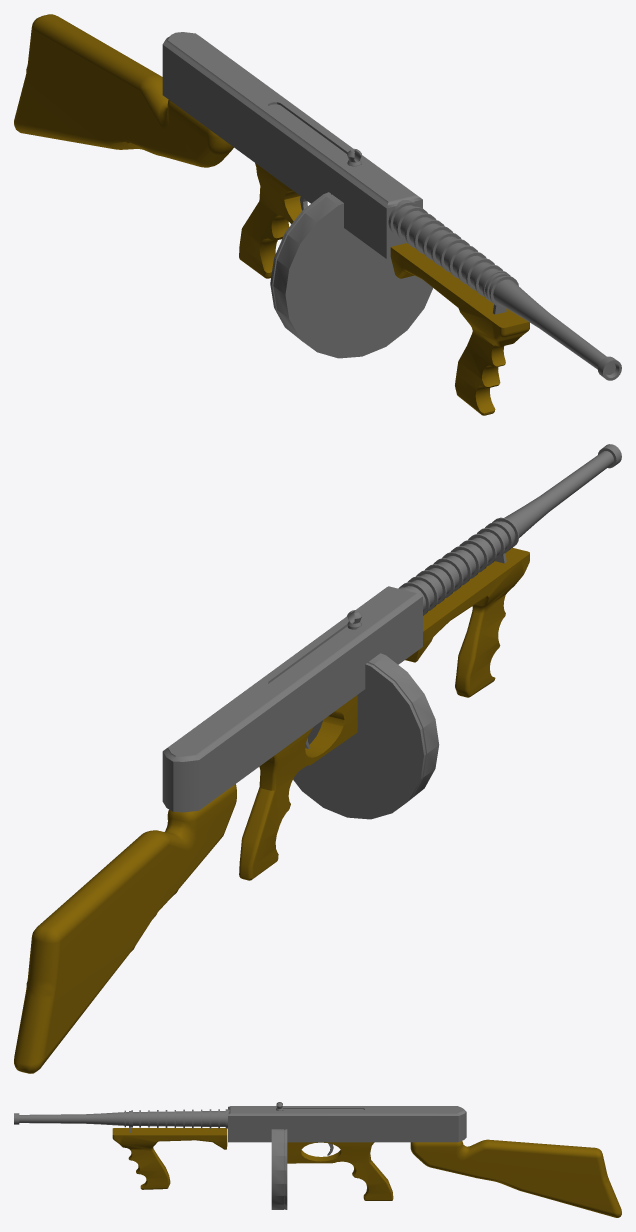
The model's file is TommyGun_Final.fbx.
3 views of the same model, one above another, from view 1: azimuth 30°, elevation 25°; view 2: azimuth 150°, elevation 25°; view 3: azimuth 270°, elevation 25° (orthographic). The views are drawn at different scales.
Parts seen in each view (by area): view 1: Receiver1, Buttstock, Magazine, Barrel, Handgaurd2, triggerassemblyandgrip1, ChargerHandle; view 2: Buttstock, Receiver1, Magazine, Barrel, Handgaurd2, triggerassemblyandgrip1, ChargerHandle; view 3: Buttstock, Receiver1, Handgaurd2, Barrel, triggerassemblyandgrip1, Magazine, ChargerHandle.
Part boxes in pixels (x1,y1,x2,y2): Receiver1: [162, 32, 422, 258]; Buttstock: [14, 14, 233, 167]; Magazine: [270, 192, 432, 358]; Barrel: [388, 200, 621, 380]; Handgaurd2: [390, 243, 529, 415]; triggerassemblyandgrip1: [239, 163, 301, 278]; ChargerHandle: [268, 104, 361, 166]; Buttstock: [14, 784, 236, 1073]; Receiver1: [162, 586, 422, 812]; Magazine: [293, 653, 439, 819]; Barrel: [398, 444, 621, 615]; Handgaurd2: [405, 548, 529, 697]; triggerassemblyandgrip1: [239, 695, 357, 880]; ChargerHandle: [269, 610, 361, 685]; Buttstock: [410, 1139, 621, 1217]; Receiver1: [228, 1106, 466, 1142]; Handgaurd2: [112, 1128, 227, 1189]; Barrel: [14, 1109, 229, 1128]; triggerassemblyandgrip1: [287, 1142, 393, 1200]; Magazine: [271, 1129, 287, 1209]; ChargerHandle: [276, 1102, 364, 1110].
Size of the model in its own units: 15.84 by 21.73 by 105.
